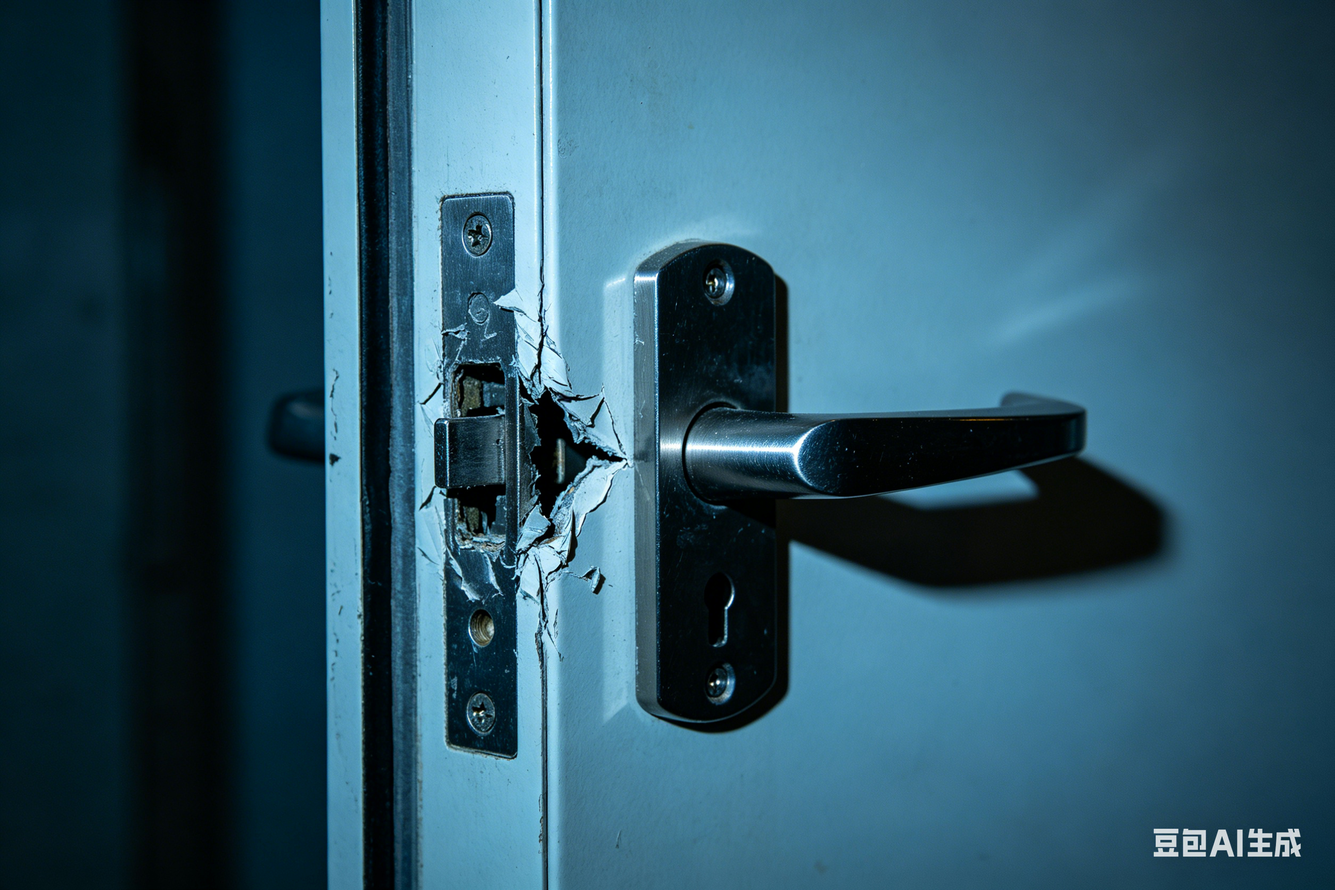BadLock: (405, 343, 631, 558)
